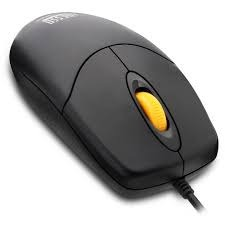mouse: (9, 11, 215, 204)
